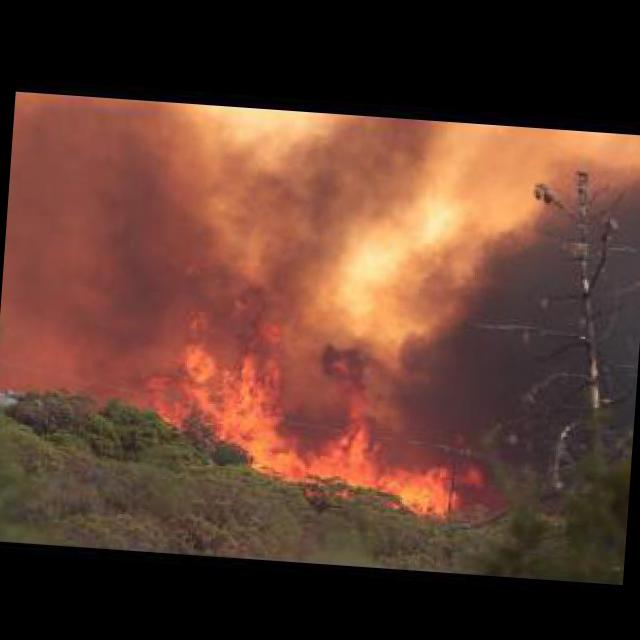fire: (130, 247, 490, 519)
